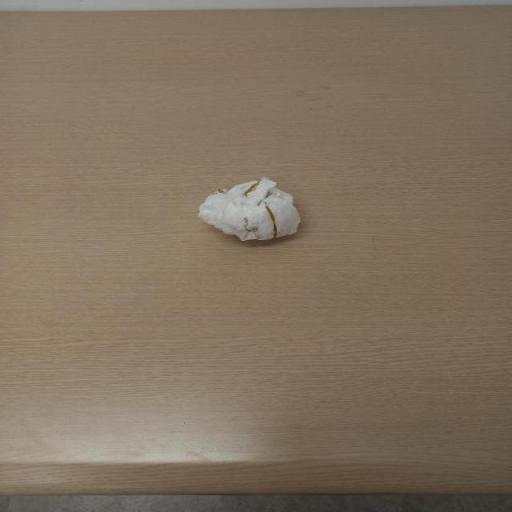plastic-bag: (200, 172, 306, 250)
